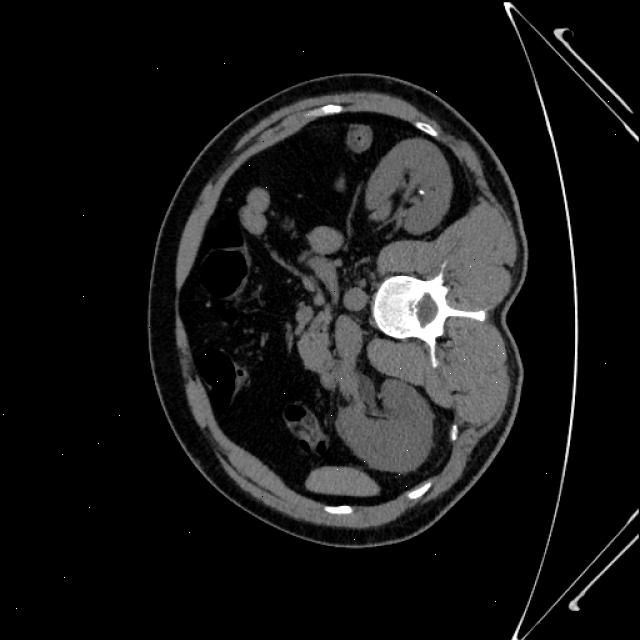kidneystone: (416, 180, 434, 199)
